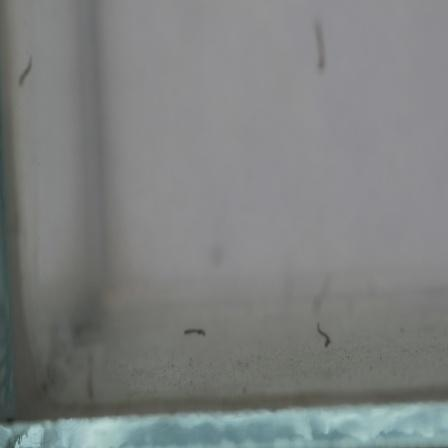Jentik-Nyamuk: (314, 319, 332, 348), (183, 323, 211, 341)
